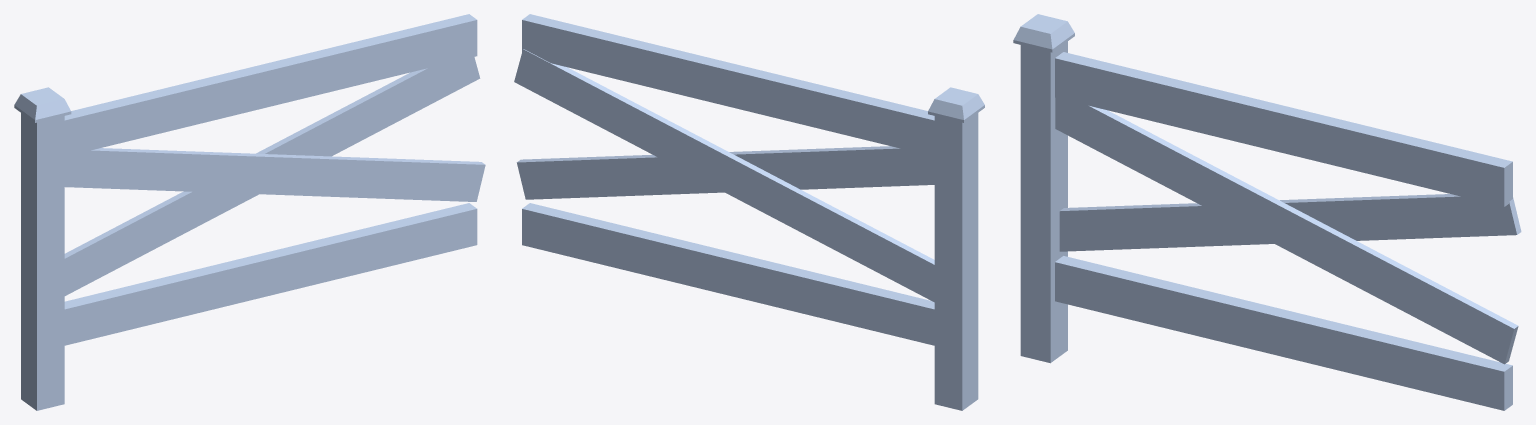
Rendered from Barn Fence Mid.glb.
3 renders of one model, left to right at view 1: azimuth 30°, elevation 25°; view 2: azimuth 150°, elevation 25°; view 3: azimuth 330°, elevation 25°, orthographic. The views are drawn at different scales.
Parts seen in each view (by area): view 1: Fence Post with mid pieces; view 2: Fence Post with mid pieces; view 3: Fence Post with mid pieces.
Boxes of the visible parts, x1=… form: Fence Post with mid pieces: x1=14, y1=14, x2=485, y2=410; Fence Post with mid pieces: x1=514, y1=14, x2=984, y2=410; Fence Post with mid pieces: x1=1013, y1=14, x2=1521, y2=410.
Bounding box in the file's own units: 3.29 × 2.1 × 0.26.
1 material, 1 textured.
